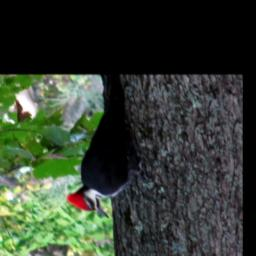Woodpecker: (64, 75, 153, 219)
